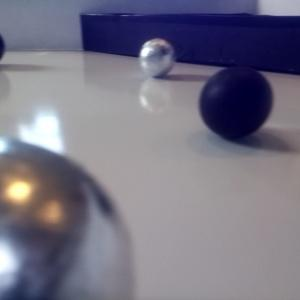zone: (80, 13, 300, 75)
